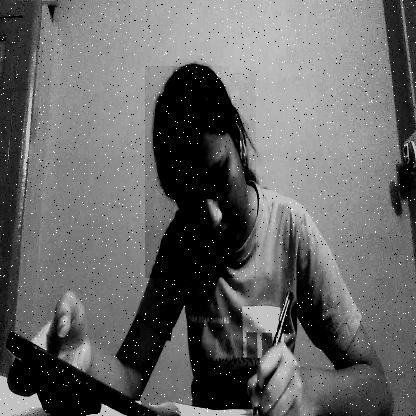Distracted: (145, 67, 256, 278)
